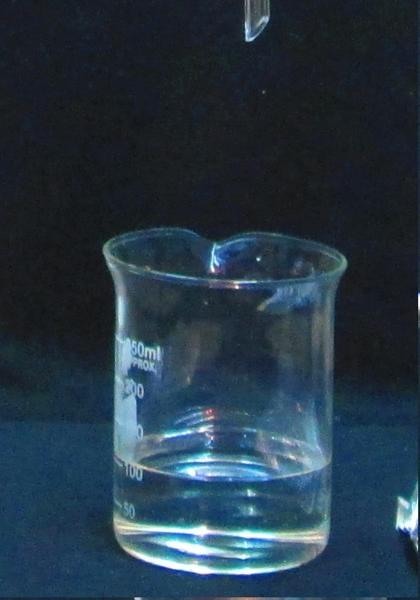Beaker: (96, 222, 357, 580)
